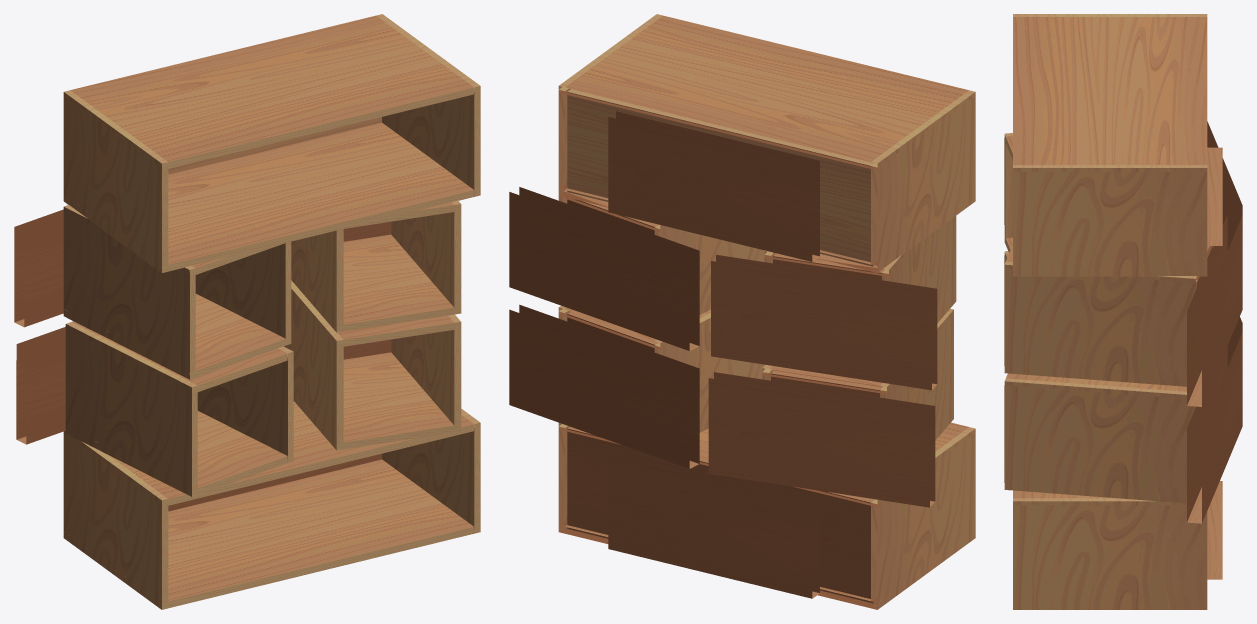
Rendered from layout_2wide_4small.fbx.
3 views of the same model, side by side, from view 1: azimuth 30°, elevation 25°; view 2: azimuth 150°, elevation 25°; view 3: azimuth 270°, elevation 25° (orthographic).
Visible parts, largest first — view 1: Shelf-TM-00 3, Shelf-BM-00, Shelf-BM-00 3, Shelf-CL-01 4, Shelf-CL-01 5, Shelf-CL-01, Shelf-CL-01 3, Shelf-BM-00 2, Shelf-BM-00 1, Shelf-CR-01 4, Shelf-CR-01 5, Shelf-CR-01 (+26 smaller); view 2: Shelf-TM-00 3, Shelf-Back-00 (1) 4, Shelf-Back-00 (1) 5, Shelf-Back-00 (1) 3, Shelf-Back-00 (1), Shelf-Back-00 (1) 1, Shelf-Back-00 (1) 2, Shelf-Back-00 3, Shelf-CL-01 3, Shelf-Back-00, Shelf-CL-01, Shelf-CL-01 5 (+16 smaller); view 3: Shelf-TM-00 3, Shelf-CR-01 3, Shelf-CR-01, Shelf-CR-01 1, Shelf-CR-01 2, Shelf-Back-00 (1) 2, Shelf-Back-00 (1) 1, Shelf-Back-00 (1) 3, Shelf-CR-00 3, Shelf-CR-00 (1) 1, Shelf-Back-00 (1), Shelf-CR-00 2 (+11 smaller).
Boxes of the visible parts, x1,y1,x2,y2 form: Shelf-TM-00 3: (70, 15, 473, 168); Shelf-BM-00: (168, 459, 473, 608); Shelf-BM-00 3: (168, 123, 473, 271); Shelf-CL-01 4: (65, 328, 197, 489); Shelf-CL-01 5: (63, 211, 195, 372); Shelf-CL-01: (63, 433, 168, 602); Shelf-CL-01 3: (63, 96, 168, 265); Shelf-BM-00 2: (343, 234, 454, 331); Shelf-BM-00 1: (343, 352, 454, 449); Shelf-CR-01 4: (197, 353, 293, 455); Shelf-CR-01 5: (195, 241, 291, 338); Shelf-CR-01: (382, 424, 480, 526); Shelf-TM-00 3: (565, 15, 968, 168); Shelf-Back-00 (1) 4: (708, 372, 935, 507); Shelf-Back-00 (1) 5: (711, 254, 937, 390); Shelf-Back-00 (1) 3: (608, 111, 819, 261); Shelf-Back-00 (1): (608, 448, 819, 598); Shelf-Back-00 (1) 1: (509, 304, 699, 468); Shelf-Back-00 (1) 2: (509, 187, 699, 350); Shelf-Back-00 3: (567, 89, 874, 266); Shelf-CL-01 3: (871, 96, 975, 265); Shelf-Back-00: (567, 426, 874, 603); Shelf-CL-01: (871, 433, 975, 602); Shelf-CL-01 5: (882, 216, 956, 315); Shelf-TM-00 3: (1013, 17, 1207, 164); Shelf-CR-01 3: (1013, 172, 1207, 269); Shelf-CR-01: (1013, 505, 1207, 602); Shelf-CR-01 1: (1004, 385, 1195, 496); Shelf-CR-01 2: (1004, 268, 1196, 379); Shelf-Back-00 (1) 2: (1187, 214, 1242, 406); Shelf-Back-00 (1) 1: (1187, 332, 1242, 523); Shelf-Back-00 (1) 3: (1207, 147, 1222, 245); Shelf-CR-00 3: (1013, 269, 1207, 276); Shelf-CR-00 (1) 1: (1004, 378, 1186, 398); Shelf-Back-00 (1): (1207, 481, 1222, 579); Shelf-CR-00 2: (1004, 366, 1186, 386).
Bounding box in the file's own units: 199 × 201 × 98.02.
